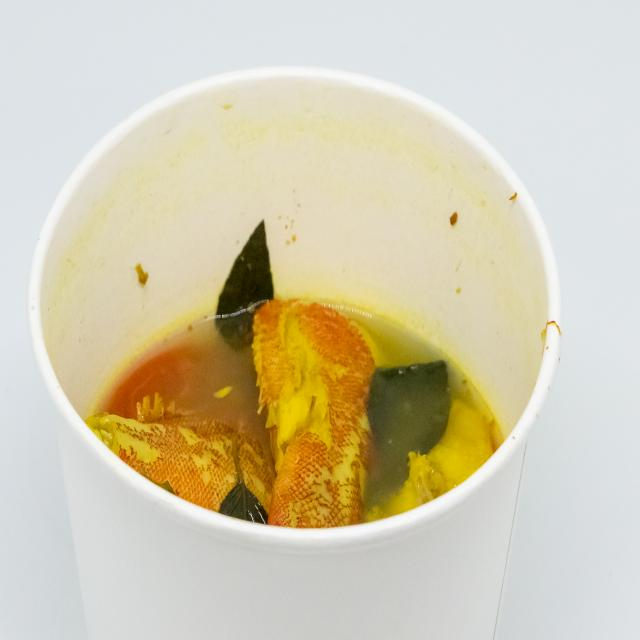Gulai-Ikan-Mas: (72, 196, 516, 554)
